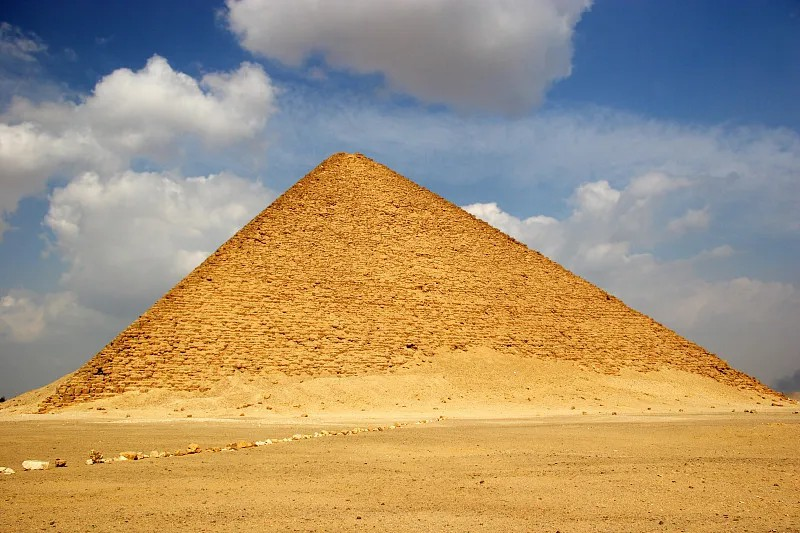Pyramid: (28, 152, 791, 413)
